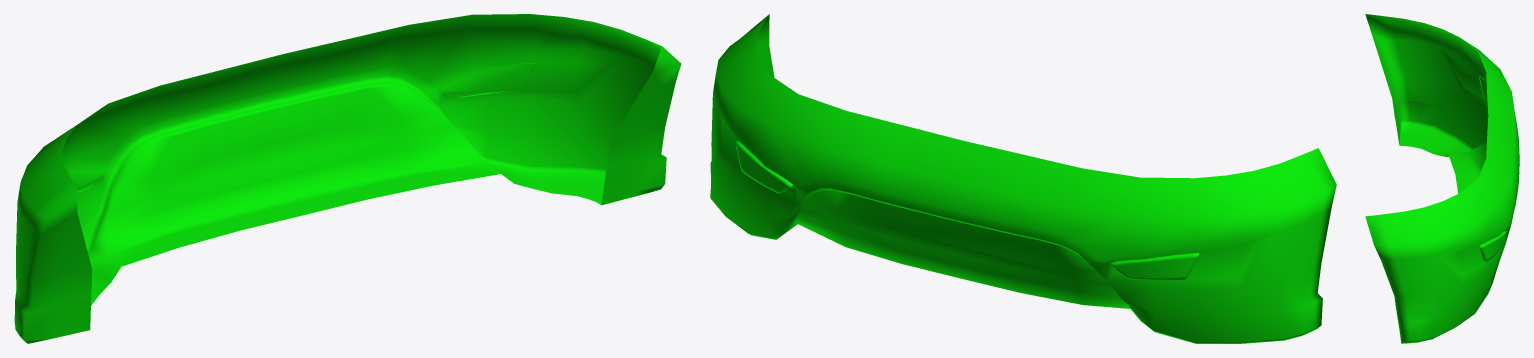
Rendered from Accent_V4_Rear_Bumper.fbx.
3 views of the same model, side by side, from view 1: azimuth 30°, elevation 25°; view 2: azimuth 150°, elevation 25°; view 3: azimuth 270°, elevation 25° (orthographic). The views are drawn at different scales.
Parts seen in each view (by area): view 1: Accent_V4_Rear_Bumper; view 2: Accent_V4_Rear_Bumper; view 3: Accent_V4_Rear_Bumper.
Boxes of the visible parts, <box> form: Accent_V4_Rear_Bumper: <box>14,14,681,343</box>; Accent_V4_Rear_Bumper: <box>710,14,1336,343</box>; Accent_V4_Rear_Bumper: <box>1365,14,1519,343</box>.
Bounding box in the file's own units: 32.06 × 8.01 × 9.42.
